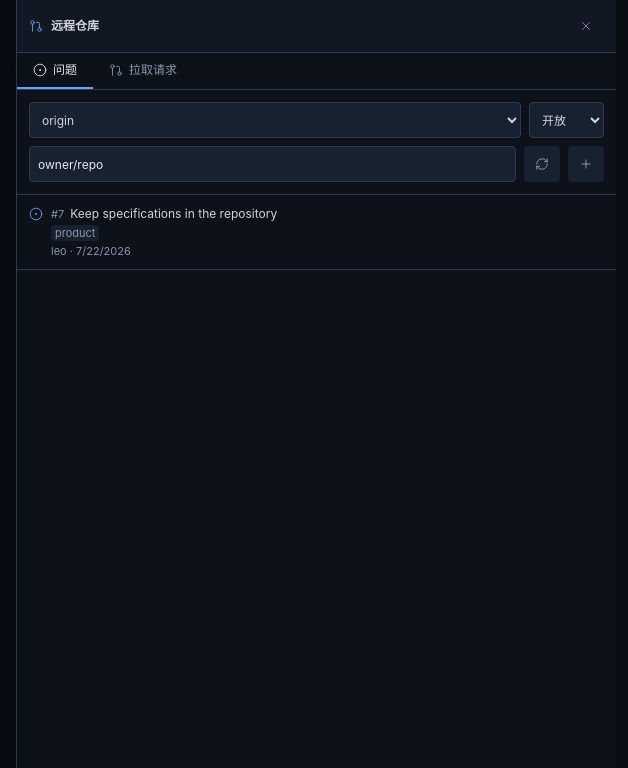
Test: RemoteGitPanel repository-owned intent › keeps issue browsing but has no app-owned create-spec action
Click the text "Keep specifications in the repository". click: (174, 214)
box: [70,205,277,223]
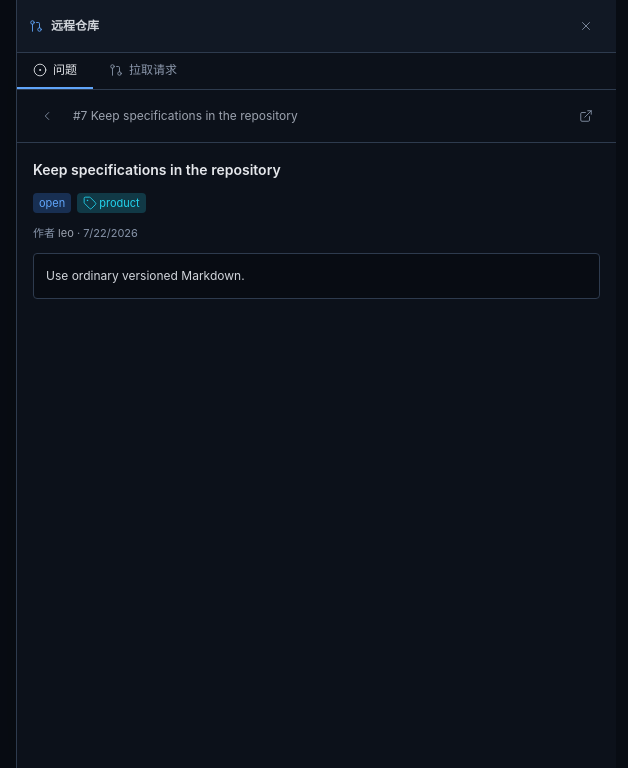
Now the heading "Keep specifications in the repository" is shown, box [33,161,281,178]
